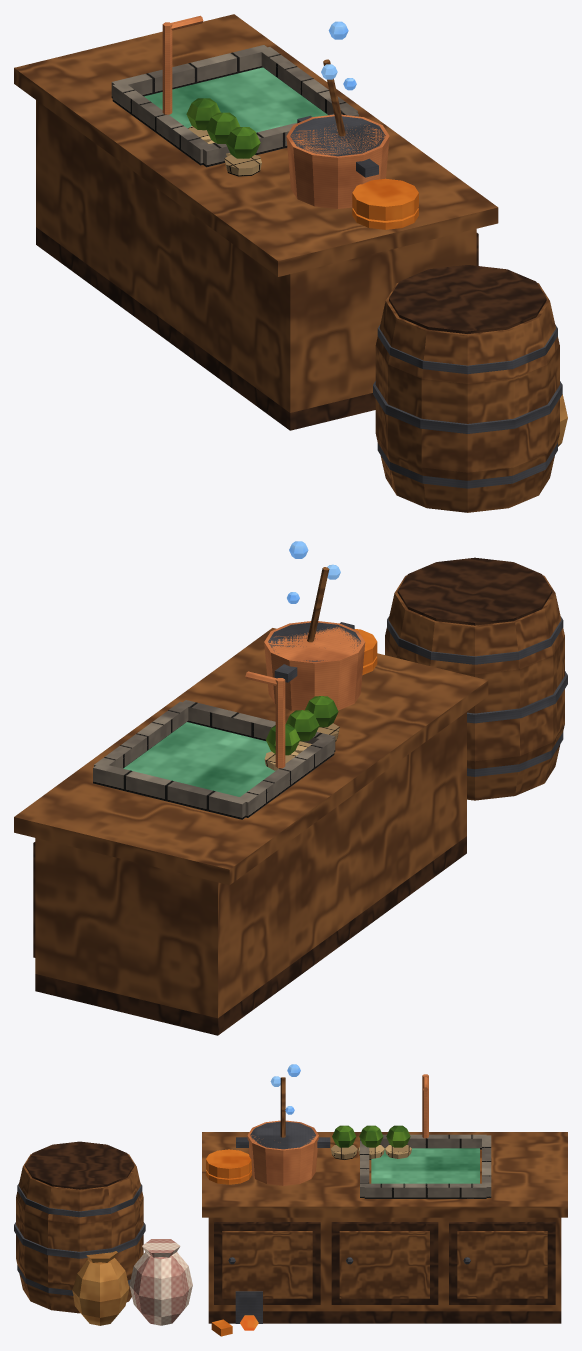
File: counter_b.glb
3 views of the same model, one above another, from view 1: azimuth 30°, elevation 25°; view 2: azimuth 150°, elevation 25°; view 3: azimuth 270°, elevation 25° (orthographic). The views are drawn at different scales.
Parts seen in each view (by area): view 1: counter_b__K_oak, counter_b__K_darkwood, counter_b__K_iron, counter_b__K_stone, counter_b__K_copper, counter_b__K_bottle, counter_b__K_carrot, counter_b__K_herb, counter_b__K_tile, counter_b__K_magic; view 2: counter_b__K_oak, counter_b__K_darkwood, counter_b__K_stone, counter_b__K_copper, counter_b__K_bottle, counter_b__K_iron, counter_b__K_herb; view 3: counter_b__K_oak, counter_b__K_darkwood, counter_b__K_iron, counter_b__K_stone, counter_b__K_cloth, counter_b__K_bottle, counter_b__K_bread, counter_b__K_copper, counter_b__K_carrot, counter_b__K_herb, counter_b__K_tile.
Part boxes in pixels (box(x1,y1,x2,y2)): counter_b__K_oak: box(14, 14, 559, 512); counter_b__K_darkwood: box(36, 227, 546, 430); counter_b__K_iron: box(290, 115, 562, 488); counter_b__K_stone: box(111, 45, 358, 167); counter_b__K_copper: box(162, 15, 389, 208); counter_b__K_bottle: box(144, 67, 327, 132); counter_b__K_carrot: box(352, 178, 418, 229); counter_b__K_herb: box(186, 98, 260, 158); counter_b__K_tile: box(188, 126, 261, 176); counter_b__K_magic: box(321, 21, 356, 90); counter_b__K_oak: box(14, 567, 564, 1018); counter_b__K_darkwood: box(33, 557, 552, 1035); counter_b__K_stone: box(93, 700, 335, 819); counter_b__K_copper: box(245, 621, 365, 768); counter_b__K_bottle: box(123, 722, 275, 796); counter_b__K_iron: box(268, 616, 567, 776); counter_b__K_herb: box(266, 696, 338, 755); counter_b__K_oak: box(16, 1077, 567, 1313); counter_b__K_darkwood: box(25, 1141, 561, 1323); counter_b__K_iron: box(14, 1121, 470, 1323); counter_b__K_stone: box(360, 1134, 491, 1198); counter_b__K_cloth: box(129, 1239, 192, 1325); counter_b__K_bottle: box(371, 1148, 479, 1183); counter_b__K_bread: box(72, 1251, 129, 1325); counter_b__K_copper: box(247, 1074, 428, 1185); counter_b__K_carrot: box(206, 1149, 251, 1336); counter_b__K_herb: box(332, 1125, 410, 1147); counter_b__K_tile: box(330, 1144, 411, 1159).
Size of the model in its own units: 1.45 by 1.99 by 4.09.
13 materials, 13 textured.
